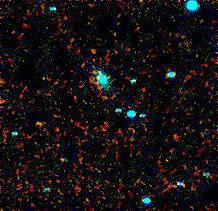star: (21, 110, 51, 140)
